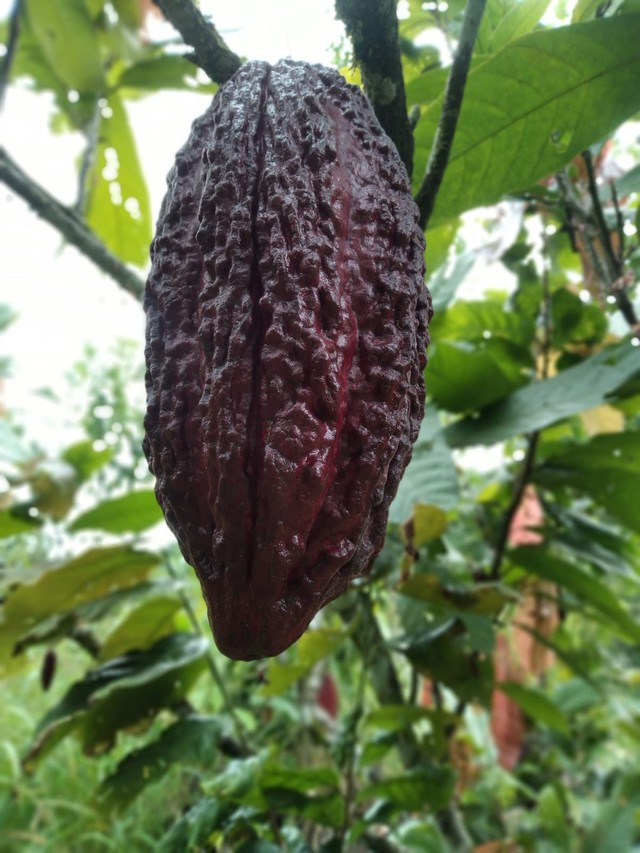Health: (122, 29, 451, 681)
